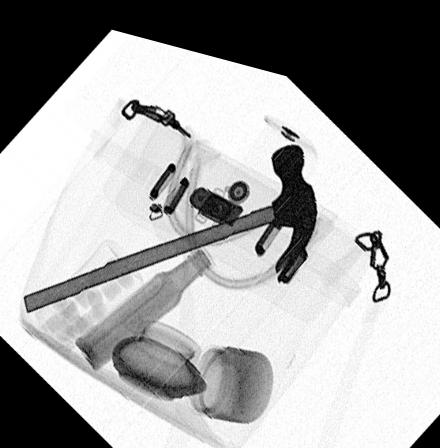Hammer: (20, 127, 316, 313)
